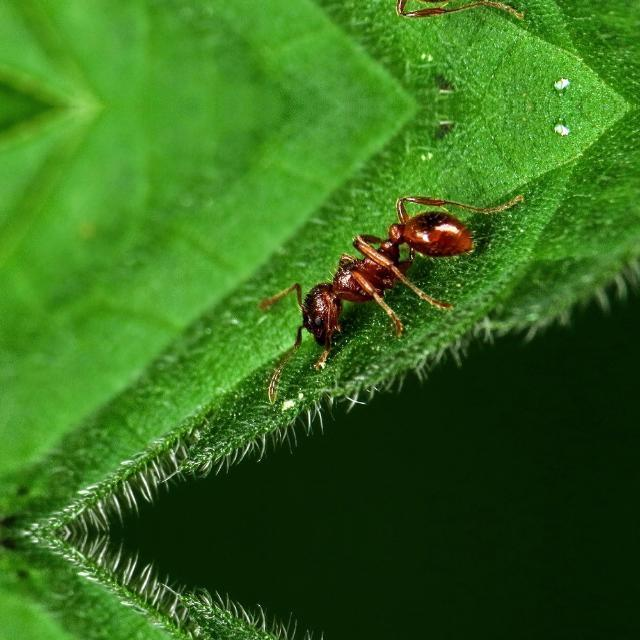Myrmica: (265, 185, 487, 352)
